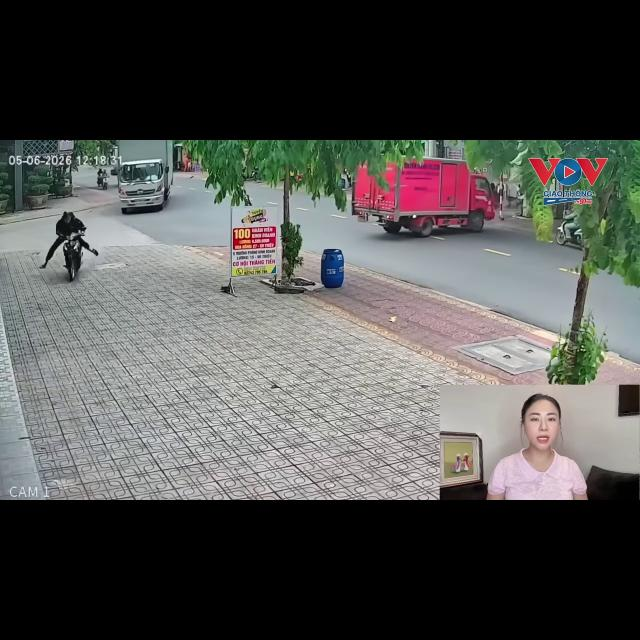motorcycle: (63, 232, 83, 281), (555, 220, 583, 246), (243, 167, 258, 180), (98, 174, 108, 189)
truck: (352, 158, 495, 236), (117, 140, 173, 214)
